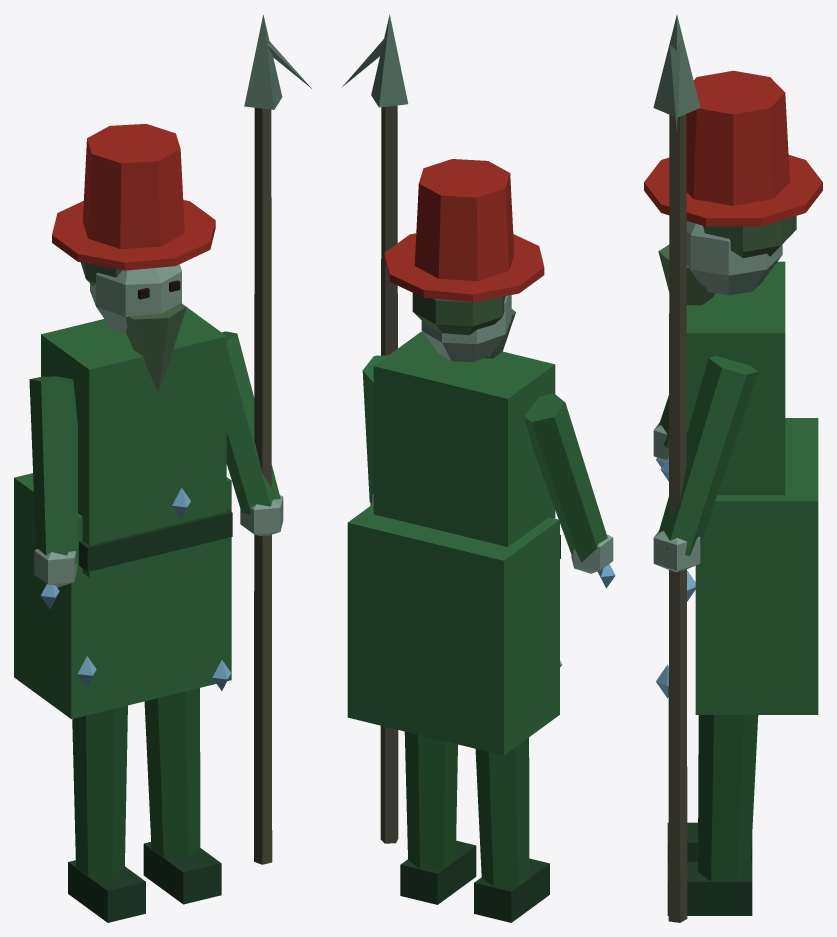
File: wassermann.glb
3 views of the same model, side by side, from view 1: azimuth 30°, elevation 25°; view 2: azimuth 150°, elevation 25°; view 3: azimuth 270°, elevation 25° (orthographic). The views are drawn at different scales.
Bounding box in the file's own units: 0.7975 × 2.39 × 0.418.
Materials: 1 (1 with a texture image).
